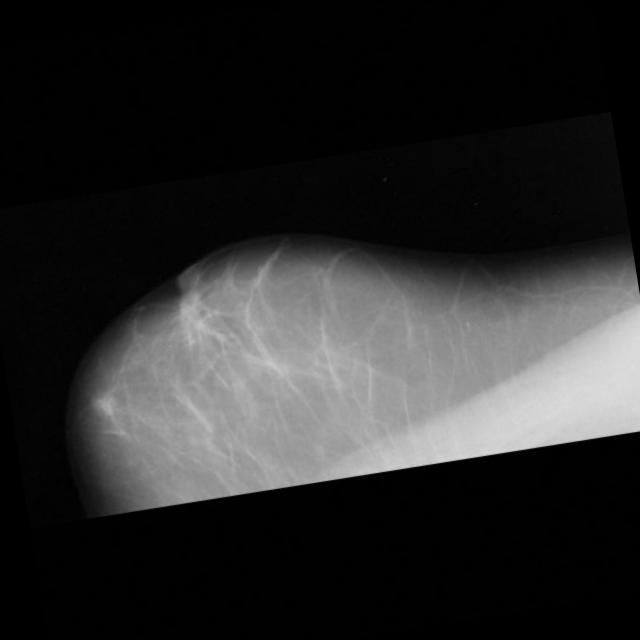CIRC: (90, 390, 118, 419)
